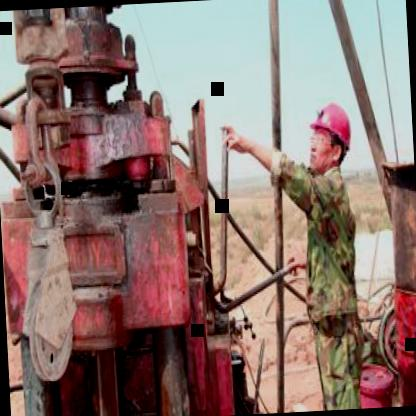helmet: (304, 95, 356, 176)
